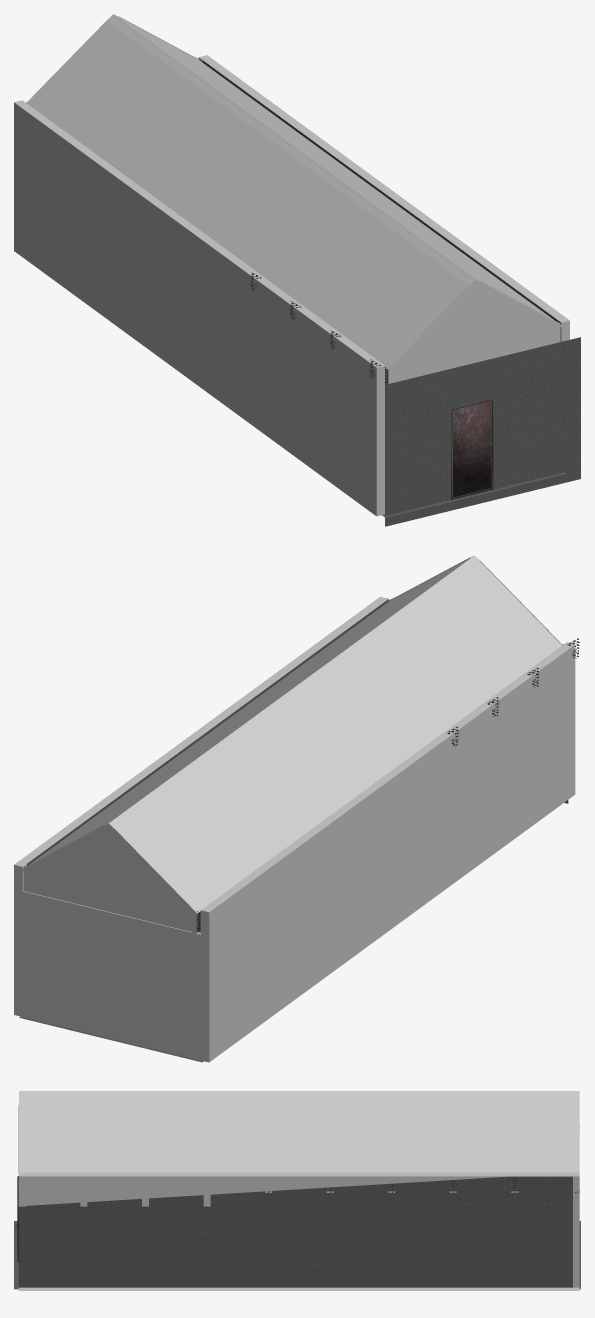
File: hallway 1.fbx
3 views of the same model, one above another, from view 1: azimuth 30°, elevation 25°; view 2: azimuth 150°, elevation 25°; view 3: azimuth 270°, elevation 25° (orthographic). The views are drawn at different scales.
Visible parts, largest first — view 1: wood_1, wall_1, front_wall, door; view 2: wall_1, wood_1; view 3: wall_1, wood_1, Floor.
Boxes of the visible parts, x1=… form: wood_1: x1=26, y1=14, x2=561, y2=383; wall_1: x1=14, y1=55, x2=569, y2=516; front_wall: x1=385, y1=337, x2=580, y2=526; door: x1=451, y1=398, x2=493, y2=499; wall_1: x1=14, y1=596, x2=575, y2=1062; wood_1: x1=21, y1=555, x2=563, y2=933; wall_1: x1=18, y1=1103, x2=579, y2=1290; wood_1: x1=19, y1=1091, x2=579, y2=1176; Floor: x1=14, y1=1221, x2=580, y2=1289.
Bounding box in the file's own units: 1175 × 1198 × 3551.
